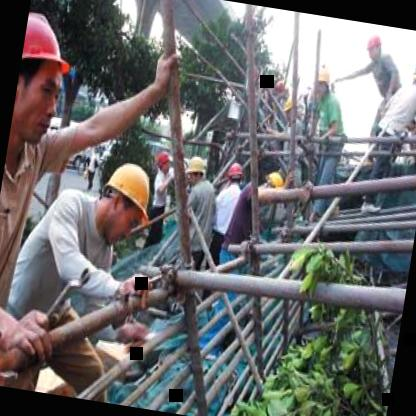helmet: (7, 0, 89, 154), (6, 1, 86, 158), (86, 151, 162, 246), (254, 166, 286, 210), (360, 30, 390, 70), (184, 150, 211, 188), (150, 142, 174, 182), (223, 156, 247, 194), (310, 60, 333, 98), (408, 52, 416, 99)
